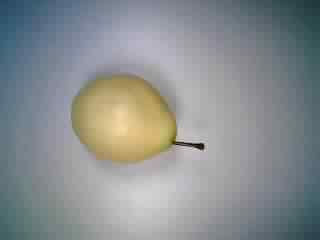pear: (65, 70, 214, 172)
